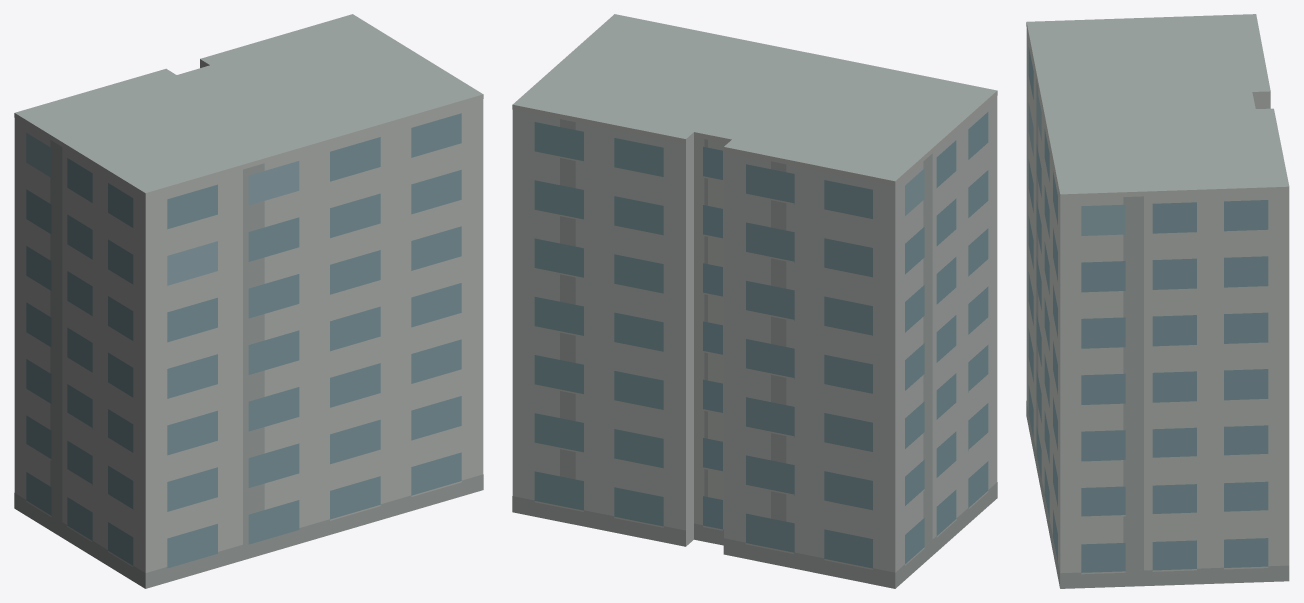
Rendered from survey-upis-32697983.glb.
3 views of the same model, side by side, from view 1: azimuth 30°, elevation 25°; view 2: azimuth 150°, elevation 25°; view 3: azimuth 270°, elevation 25° (orthographic). The views are drawn at different scales.
Visible parts, largest first — view 1: survey-upis-32697983.tmp; view 2: survey-upis-32697983.tmp; view 3: survey-upis-32697983.tmp.
Boxes of the visible parts, left/top/right/bottom form: survey-upis-32697983.tmp: left=14, top=14, right=483, bottom=588; survey-upis-32697983.tmp: left=512, top=14, right=997, bottom=588; survey-upis-32697983.tmp: left=1026, top=14, right=1289, bottom=588.
Size of the model in its own units: 19.52 by 19.9 by 12.03.
